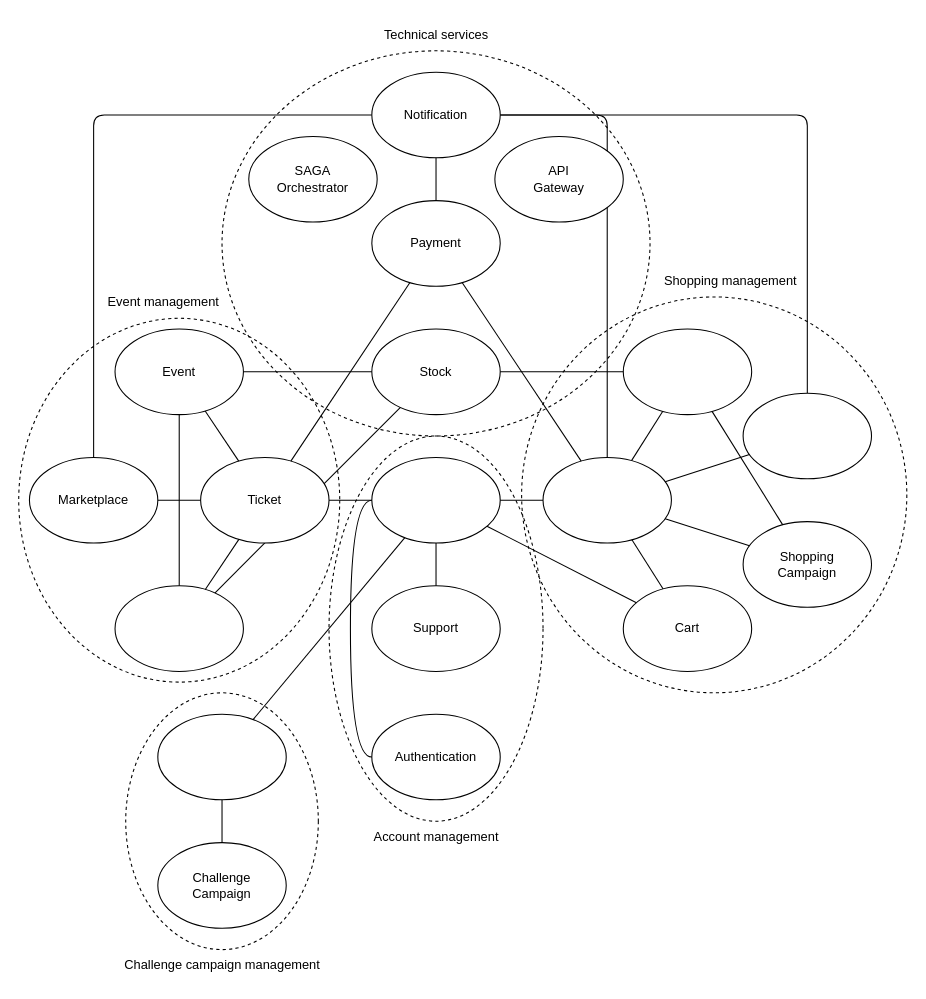
The diagram is 926 pixels wide and 999 high, and some of its shapes have lost their labels. Each missing label, with the centre of its shape:
"Account" belongs at point (435, 499).
"Bus" belongs at point (178, 628).
"Catalog" belongs at point (687, 371).
"Order" belongs at point (606, 499).
"Proof" belongs at point (221, 756).
"Shipping" belongs at point (807, 435).
